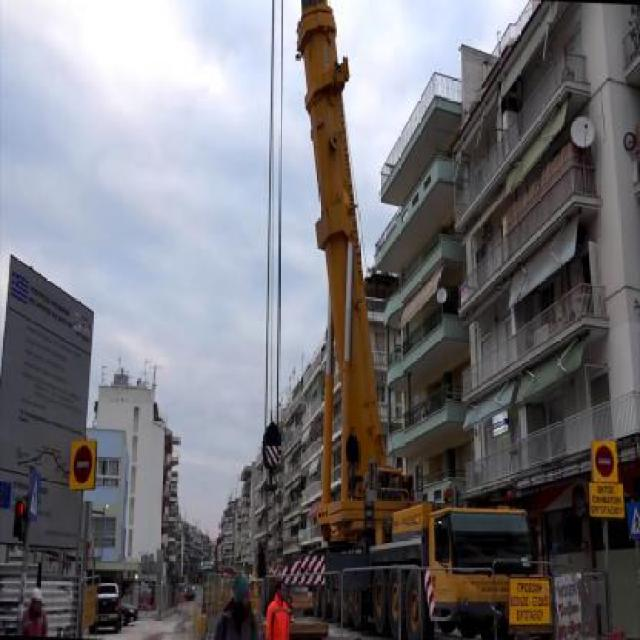Mobile Crane: (261, 0, 536, 638)
